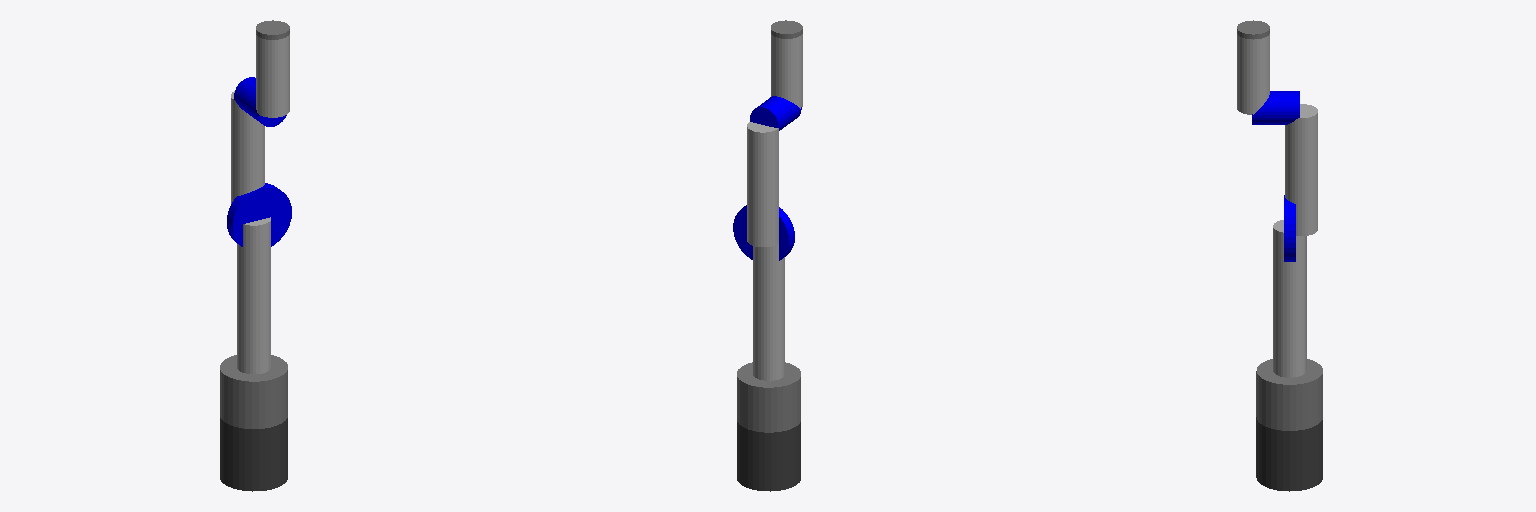
URDF robot description (FourByThree_rigid_6dofs):
<robot name="FourByThree_rigid_6dofs">
    <material name="Blue">
        <texture />
        <color rgba="0 0 1 1" />
    </material>
    <material name="DarkGrey">
        <texture />
        <color rgba="0.3 0.3 0.3 1" />
    </material>
    <material name="Grey">
        <texture />
        <color rgba="0.5 0.5 0.5 1" />
    </material>
    <material name="LightGrey">
        <texture />
        <color rgba="0.7 0.7 0.7 1" />
    </material>
    <link name="base">
        <visual>
            <origin xyz="0 0 0.1" rpy="0 -0 0" />
            <geometry>
                <cylinder radius="0.1" length="0.2" />
            </geometry>
            <material name="DarkGrey">
                <texture />
                <color rgba="0.3 0.3 0.3 1" />
            </material>
        </visual>
    </link>
    <link name="flange">
        <inertial>
            <mass value="-3.66919" />
            <origin xyz="-0.000636102 -0.000307871 -0.0888207" rpy="0 -0 0" />
            <inertia ixx="0.709398" ixy="0.0421944" ixz="0.0692498" iyy="0.578488" iyz="0.0893602" izz="1.09419" />
        </inertial>
        <visual>
            <origin xyz="0 0 -0.0082" rpy="0 -0 0" />
            <geometry>
                <cylinder radius="0.05" length="0.0164" />
            </geometry>
            <material name="Grey">
                <texture />
                <color rgba="0.5 0.5 0.5 1" />
            </material>
        </visual>
    </link>
    <link name="link1">
        <inertial>
            <mass value="-6.62591e-20" />
            <origin xyz="0 0 0" rpy="0 -0 0" />
            <inertia ixx="-4.32765e-21" ixy="-3.60525e-20" ixz="1.86002e-19" iyy="-2.07924e-19" iyz="2.68646e-21" izz="1.05929" />
        </inertial>
        <visual>
            <origin xyz="0 0 0.27645" rpy="0 -0 0" />
            <geometry>
                <cylinder radius="0.1" length="0.1529" />
            </geometry>
            <material name="Grey">
                <texture />
                <color rgba="0.5 0.5 0.5 1" />
            </material>
        </visual>
    </link>
    <link name="link2">
        <inertial>
            <mass value="6.73011e-21" />
            <origin xyz="0 0 0" rpy="0 -0 0" />
            <inertia ixx="1.64385" ixy="0.395616" ixz="2.19662" iyy="-0.584556" iyz="1.58849" izz="-1.52221" />
        </inertial>
        <visual>
            <origin xyz="0 0.239 0" rpy="1.5708 -0 0" />
            <geometry>
                <cylinder radius="0.05" length="0.478" />
            </geometry>
            <material name="LightGrey">
                <texture />
                <color rgba="0.7 0.7 0.7 1" />
            </material>
        </visual>
    </link>
    <link name="link3">
        <inertial>
            <mass value="0.523018" />
            <origin xyz="-0.99779 -0.00851904 -6.12002e-16" rpy="0 -0 0" />
            <inertia ixx="0.998448" ixy="-0.219683" ixz="1.20394" iyy="0.0608427" iyz="0.736906" izz="1.67494" />
        </inertial>
        <visual>
            <origin xyz="0 -0.0178 0" rpy="0 -0 0" />
            <geometry>
                <cylinder radius="0.1" length="0.0356" />
            </geometry>
            <material name="Blue">
                <texture />
                <color rgba="0 0 1 1" />
            </material>
        </visual>
    </link>
    <link name="link4">
        <inertial>
            <mass value="0.551391" />
            <origin xyz="-0.0155819 0.100506 -0.946445" rpy="0 -0 0" />
            <inertia ixx="-0.00473947" ixy="-0.215528" ixz="-0.175434" iyy="1.74053" iyz="-0.0807673" izz="0.948517" />
        </inertial>
        <visual>
            <origin xyz="0 0 0.18525" rpy="0 -0 0" />
            <geometry>
                <cylinder radius="0.05" length="0.3905" />
            </geometry>
            <material name="LightGrey">
                <texture />
                <color rgba="0.7 0.7 0.7 1" />
            </material>
        </visual>
    </link>
    <link name="link5">
        <inertial>
            <mass value="6.3732" />
            <origin xyz="0.00153624 0.051136 0.00869576" rpy="0 -0 0" />
            <inertia ixx="0.190007" ixy="-0.028486" ixz="-0.502397" iyy="0.753769" iyz="0.0757799" izz="1.09788" />
        </inertial>
        <visual>
            <origin xyz="0 0 0.07725" rpy="0 -0 0" />
            <geometry>
                <cylinder radius="0.05" length="0.1445" />
            </geometry>
            <material name="Blue">
                <texture />
                <color rgba="0 0 1 1" />
            </material>
        </visual>
    </link>
    <link name="link6">
        <inertial>
            <mass value="5.68801" />
            <origin xyz="0.000410333 0.0001986 0.057296" rpy="0 -0 0" />
            <inertia ixx="0.709398" ixy="0.0421944" ixz="0.0692498" iyy="0.578488" iyz="0.0893602" izz="1.09419" />
        </inertial>
        <visual>
            <origin xyz="0 0 0.125" rpy="0 -0 0" />
            <geometry>
                <cylinder radius="0.05" length="0.25" />
            </geometry>
            <material name="LightGrey">
                <texture />
                <color rgba="0.7 0.7 0.7 1" />
            </material>
        </visual>
    </link>
    <joint name="flange_link" type="fixed">
        <origin xyz="0 0 0.2664" rpy="0 -0 0" />
        <axis xyz="0 0 0" />
        <parent link="link6" />
        <child link="flange" />
    </joint>
    <joint name="joint_1" type="revolute">
        <origin xyz="0 0 0" rpy="0 -0 0" />
        <axis xyz="0 0 1" />
        <parent link="base" />
        <child link="link1" />
        <limit effort="80" velocity="1.5" lower="-2.5" upper="2.5" />
    </joint>
    <joint name="joint_2" type="revolute">
        <origin xyz="0 0 0.3529" rpy="1.5708 -0 0" />
        <axis xyz="0 0 1" />
        <parent link="link1" />
        <child link="link2" />
        <limit effort="80" velocity="1.5" lower="-1.6" upper="1.6" />
    </joint>
    <joint name="joint_3" type="revolute">
        <origin xyz="0 0.478 0" rpy="0 -0 1.5708" />
        <axis xyz="0 0 1" />
        <parent link="link2" />
        <child link="link3" />
        <limit effort="40" velocity="1.5" lower="-2" upper="2" />
    </joint>
    <joint name="joint_4" type="revolute">
        <origin xyz="0 0 -0.0356" rpy="1.5708 -0 1.5708" />
        <axis xyz="0 0 1" />
        <parent link="link3" />
        <child link="link4" />
        <limit effort="40" velocity="1.5" lower="-2" upper="2" />
    </joint>
    <joint name="joint_5" type="revolute">
        <origin xyz="0 0 0.3905" rpy="1.5708 -4.23516e-22 -3.14159" />
        <axis xyz="0 0 1" />
        <parent link="link4" />
        <child link="link5" />
        <limit effort="40" velocity="1.5" lower="-2" upper="2" />
    </joint>
    <joint name="joint_6" type="revolute">
        <origin xyz="0 0 0.1445" rpy="-1.5708 0 0" />
        <axis xyz="0 0 1" />
        <parent link="link5" />
        <child link="link6" />
        <limit effort="40" velocity="1.5" lower="-3" upper="3" />
    </joint>
</robot>

--- Facts derived from the render (not from the file) ---
3 views of the same robot in one strip: view 1: azimuth 30°, elevation 25°; view 2: azimuth 150°, elevation 25°; view 3: azimuth 270°, elevation 25° (orthographic).
Robot: FourByThree_rigid_6dofs — 8 links, 7 joints (6 revolute, 1 fixed); root link base; default pose: all joints at 0.
Links seen in each view (by area): view 1: link2, base, link1, link4, link6, link3, link5, flange; view 2: link2, link4, base, link1, link6, link3, link5; view 3: link2, base, link1, link4, link6, link5, link3.
Link boxes in pixels (x1=…): link2: x1=237, y1=217, x2=270, y2=373; base: x1=220, y1=418, x2=287, y2=491; link1: x1=220, y1=355, x2=287, y2=428; link4: x1=231, y1=91, x2=264, y2=203; link6: x1=256, y1=34, x2=289, y2=117; link3: x1=227, y1=183, x2=291, y2=246; link5: x1=234, y1=77, x2=286, y2=126; flange: x1=256, y1=20, x2=289, y2=39; link2: x1=753, y1=243, x2=784, y2=380; link4: x1=747, y1=122, x2=778, y2=246; base: x1=737, y1=422, x2=800, y2=491; link1: x1=737, y1=362, x2=800, y2=432; link6: x1=771, y1=34, x2=802, y2=108; link3: x1=733, y1=205, x2=794, y2=260; link5: x1=750, y1=96, x2=801, y2=130; link2: x1=1273, y1=220, x2=1306, y2=377; base: x1=1256, y1=417, x2=1322, y2=491; link1: x1=1256, y1=359, x2=1322, y2=430; link4: x1=1285, y1=104, x2=1317, y2=235; link6: x1=1237, y1=34, x2=1269, y2=114; link5: x1=1252, y1=91, x2=1299, y2=124; link3: x1=1284, y1=195, x2=1295, y2=261.
Bounding box of the posed robot: 0.2178 × 0.2589 × 1.49 m (x, y, z).
Geometry: primitives only (box / cylinder / sphere), no mesh files.